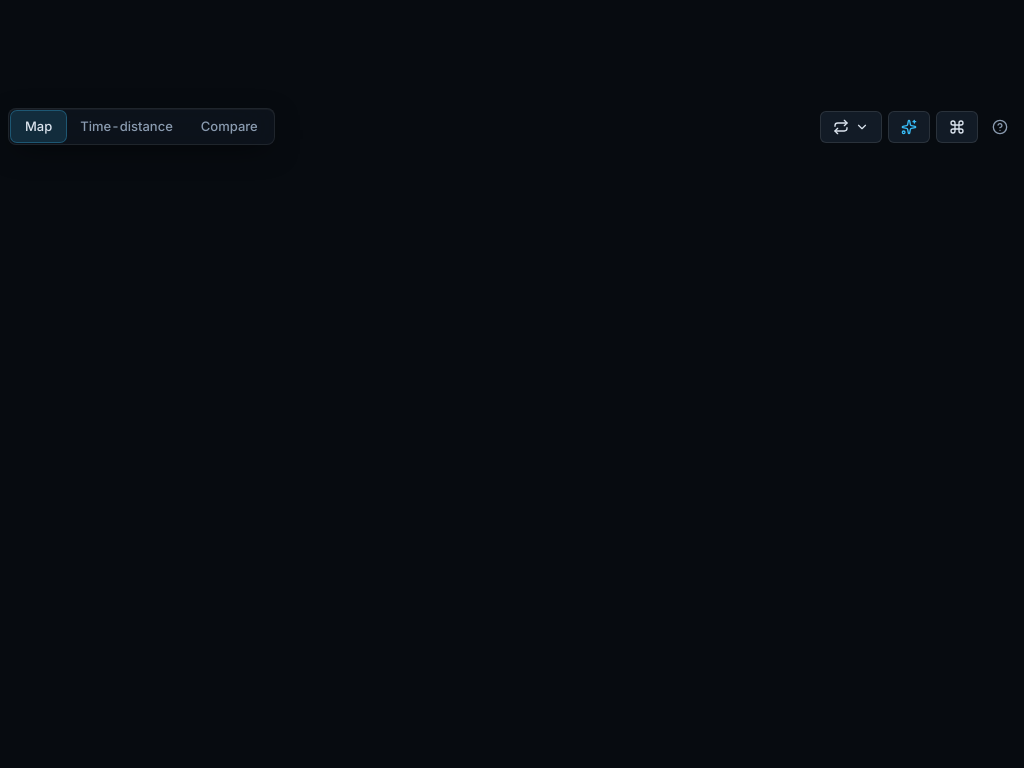
Scenario: compare tab › shows live KPIs for all four strategies when the backend is live
The image size is (1024, 768).
Click the tab "Compare" at (229, 126), box [187,111,272,142]
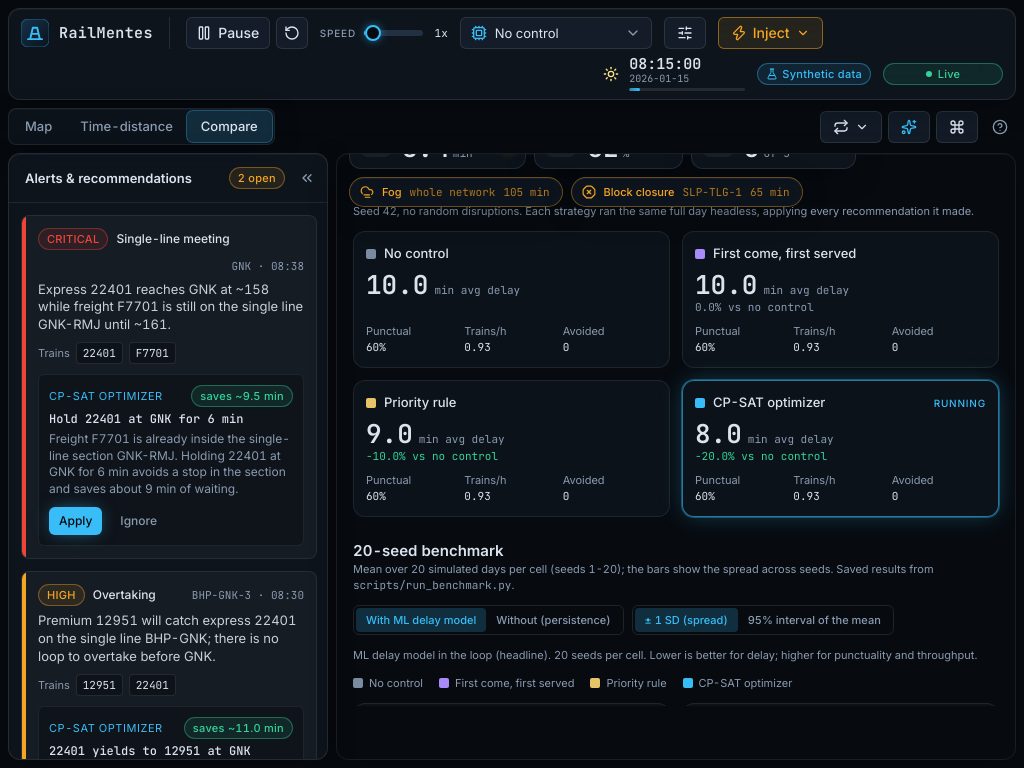
Check: the element named "CP-SAT optimizer KPIs" is shown, box [682,380,999,517]
Check: the element named "No control KPIs" is shown, box [353,231,670,368]
Check: the text "-20.0% vs no control" is shown, box [695,449,827,463]
